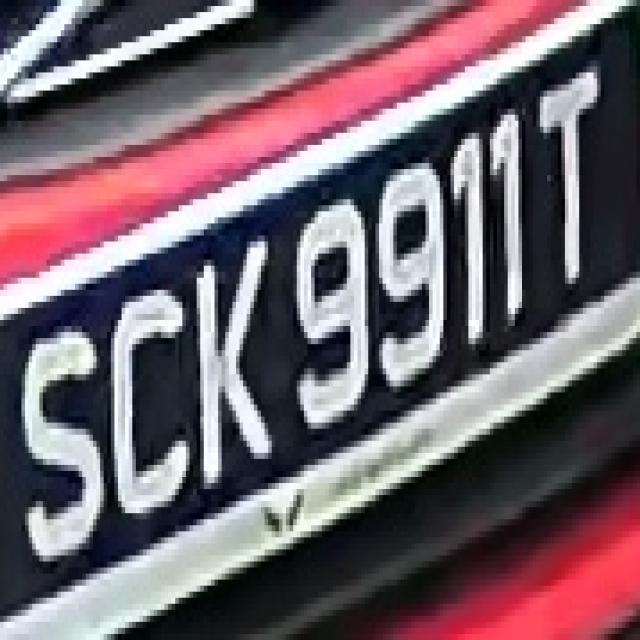1: (443, 103, 490, 356), (490, 97, 533, 338)
9: (354, 145, 454, 398), (286, 181, 372, 435)
C: (97, 266, 193, 543)
K: (179, 211, 279, 489)
S: (22, 320, 108, 574)
T: (522, 54, 608, 284)
